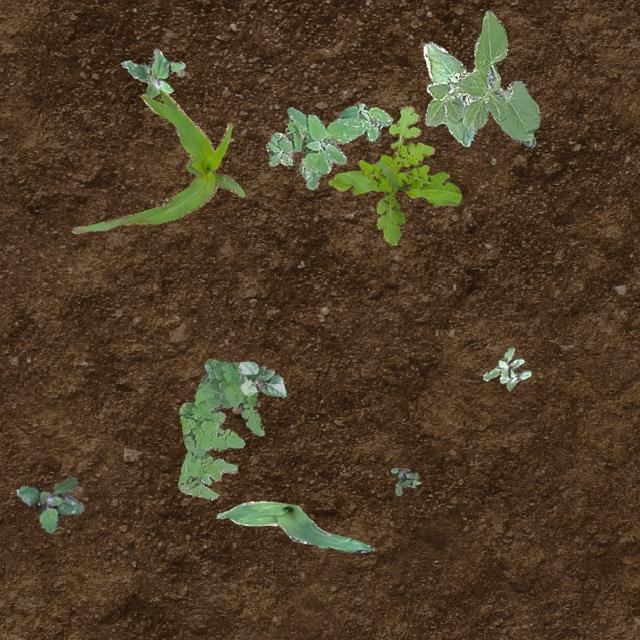crop: (70, 89, 244, 232), (422, 10, 538, 146), (215, 500, 374, 552), (238, 359, 286, 396)
weed: (328, 106, 460, 244), (178, 358, 264, 498), (264, 102, 392, 188), (16, 476, 82, 530), (120, 48, 184, 96), (482, 346, 530, 389), (390, 466, 420, 494)
